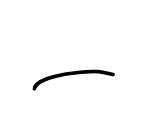minus: (32, 68, 114, 89)
